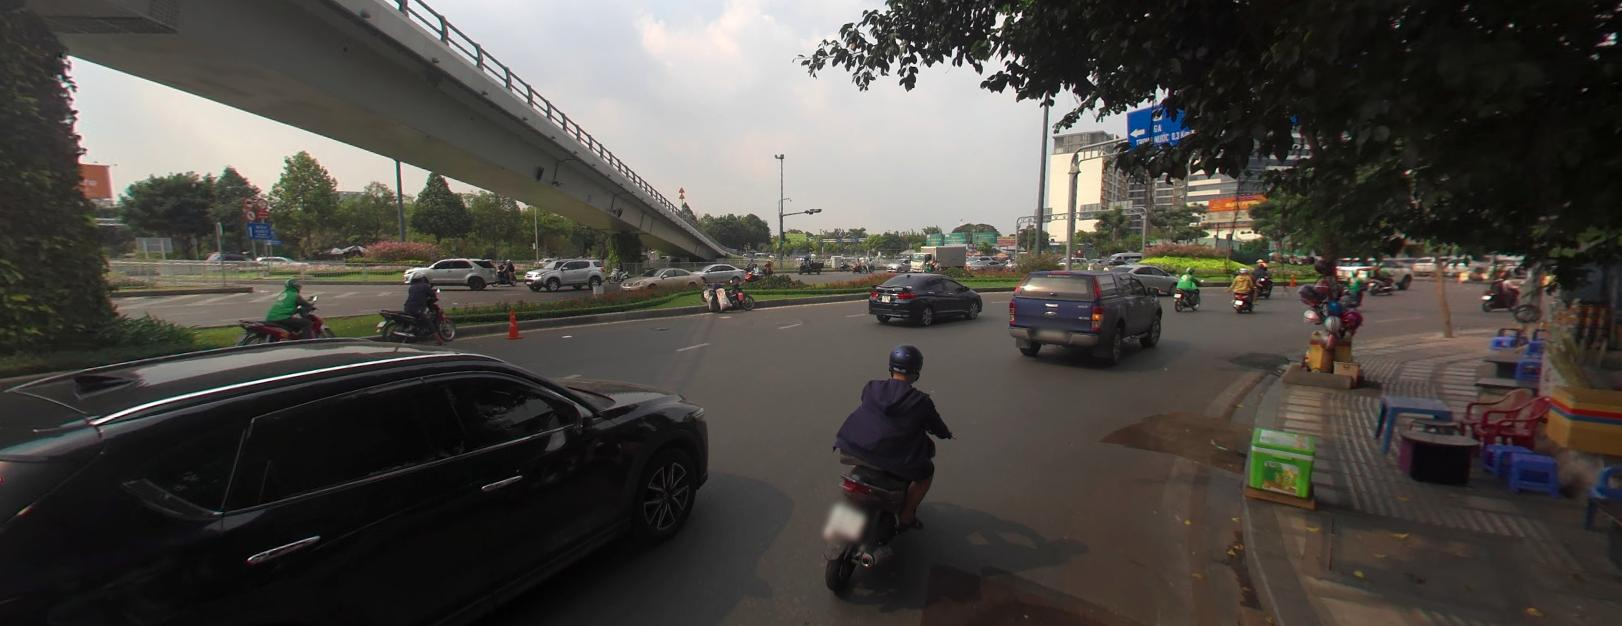Cam con lai: (257, 195, 268, 208), (245, 208, 256, 219), (242, 195, 254, 205)
